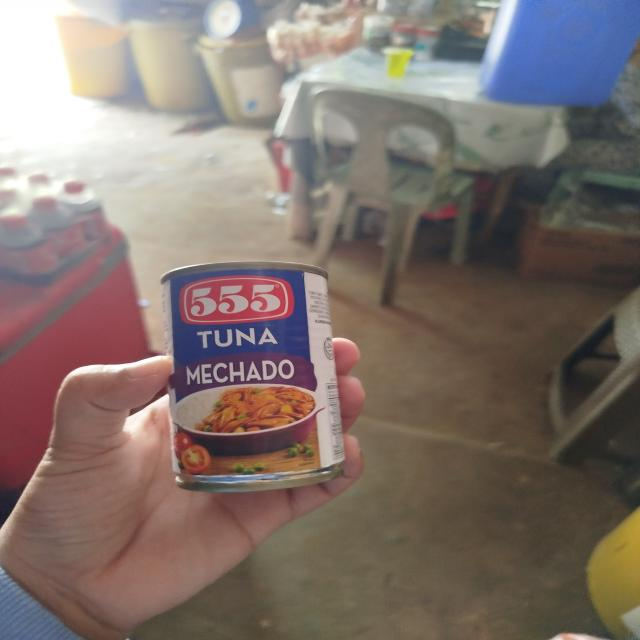metal: (130, 247, 371, 509)
